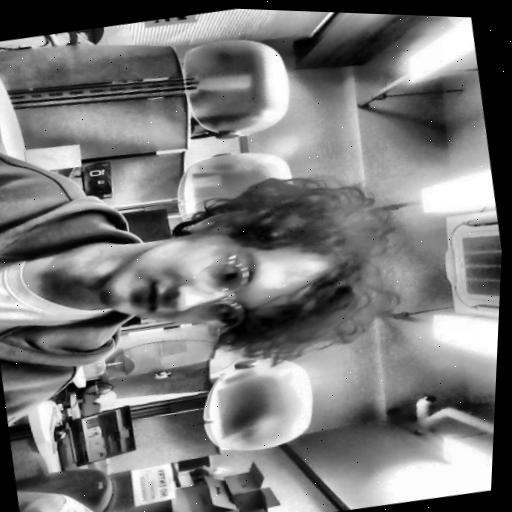Daifuku: (87, 157, 396, 389)
